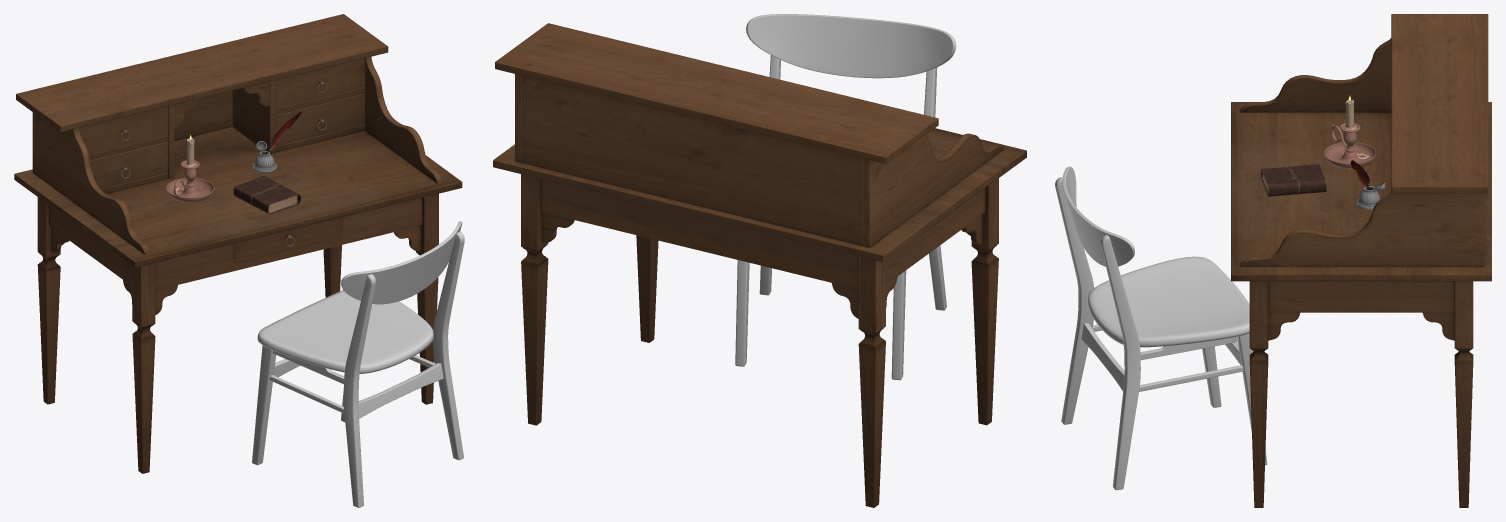
The picture shows the model from 3 angles, left to right: view 1: azimuth 30°, elevation 25°; view 2: azimuth 150°, elevation 25°; view 3: azimuth 270°, elevation 25°; orthographic projection. The views are drawn at different scales.
Visible parts, largest first — view 1: Table_17, Chair_11, Table_drawer_4_23, Table_drawer_3_25, Table_drawer_1_27, Table_drawer_2_21, Table_drawer_5_19, Cover_2, Candlestick_7; view 2: Table_17, Chair_11; view 3: Table_17, Chair_11, Cover_2, Candlestick_7.
Boxes of the visible parts, x1,y1,x2,y2 form: Table_17: [14, 14, 462, 473]; Chair_11: [252, 221, 464, 507]; Table_drawer_4_23: [276, 93, 364, 146]; Table_drawer_3_25: [276, 58, 364, 108]; Table_drawer_1_27: [79, 106, 168, 154]; Table_drawer_2_21: [90, 141, 168, 188]; Table_drawer_5_19: [234, 217, 341, 262]; Cover_2: [233, 175, 301, 214]; Candlestick_7: [166, 160, 214, 202]; Table_17: [493, 23, 1026, 507]; Chair_11: [735, 14, 956, 380]; Table_17: [1231, 14, 1491, 507]; Chair_11: [1055, 166, 1267, 490]; Cover_2: [1260, 164, 1326, 196]; Candlestick_7: [1324, 123, 1375, 168].
Bounding box in the file's own units: 1.38 × 1.22 × 1.47.
